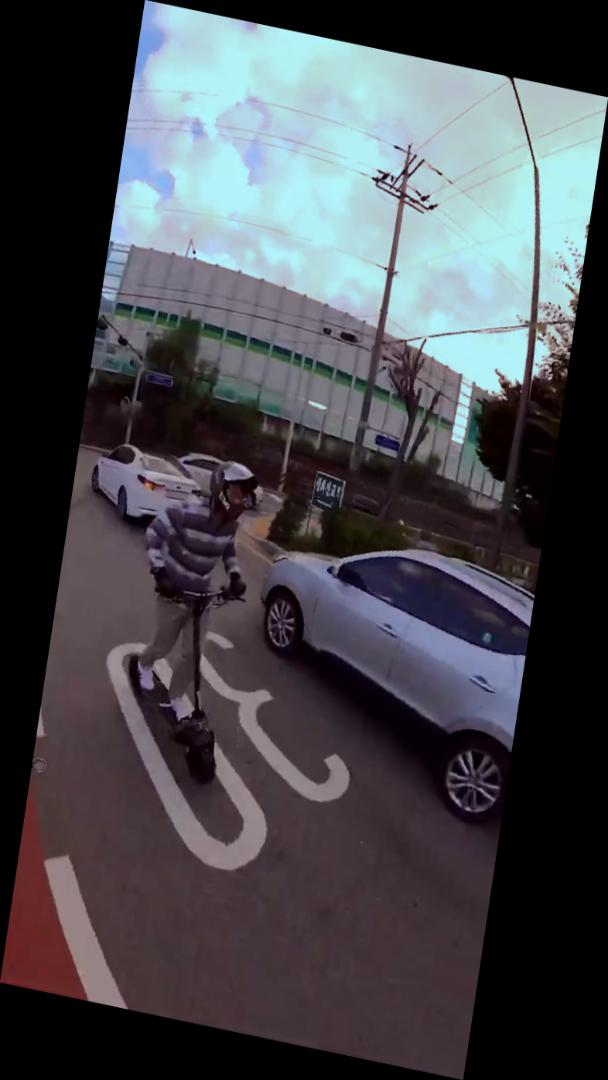helmet: (110, 444, 274, 790)
